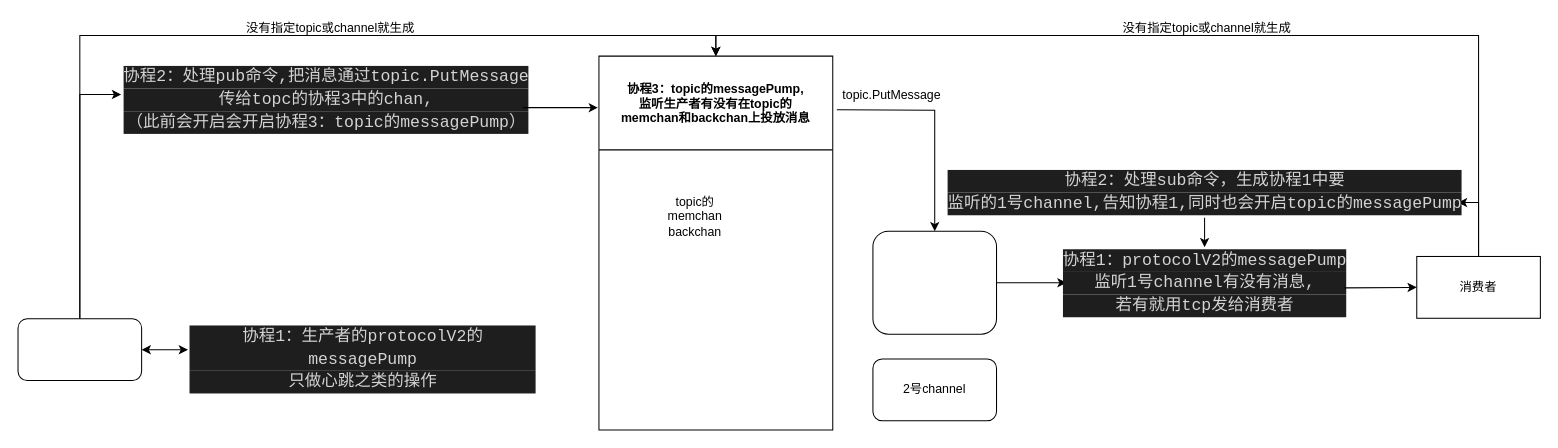
The diagram is 1558 pixels wide and 448 high, and some of its shapes have lost their labels. Here are the shapes that lost their labels. From the top down, the centre of each, then its label:
point (934, 282): 1号channel memchan backchan
point (79, 349): 生产者
